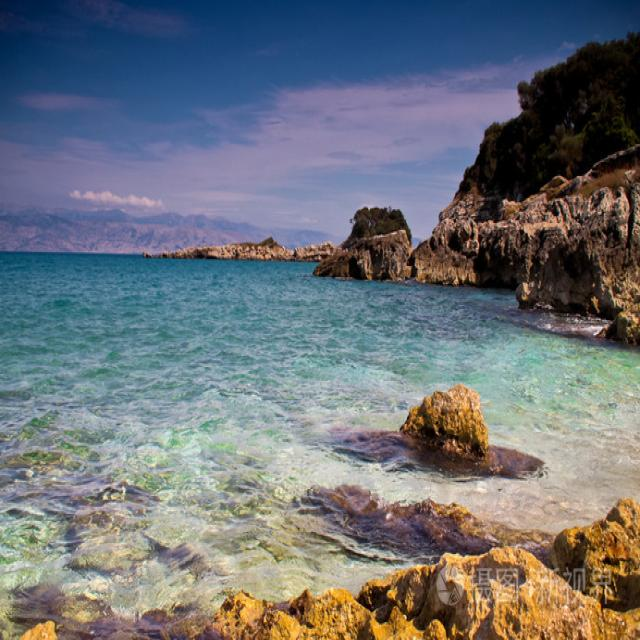reef: (175, 225, 467, 299), (403, 341, 511, 496)
